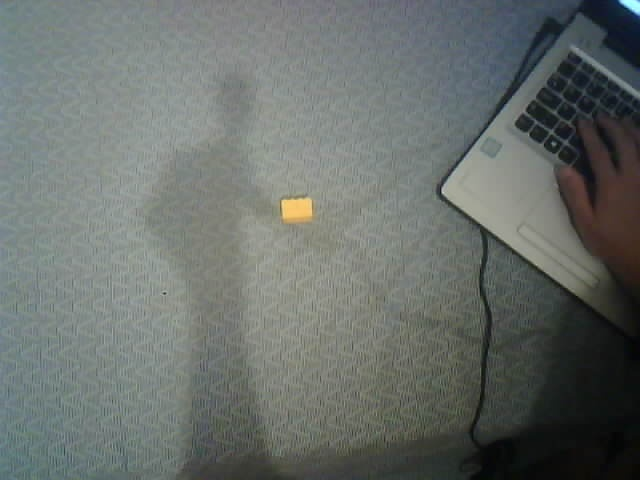lego: (279, 197, 314, 224)
